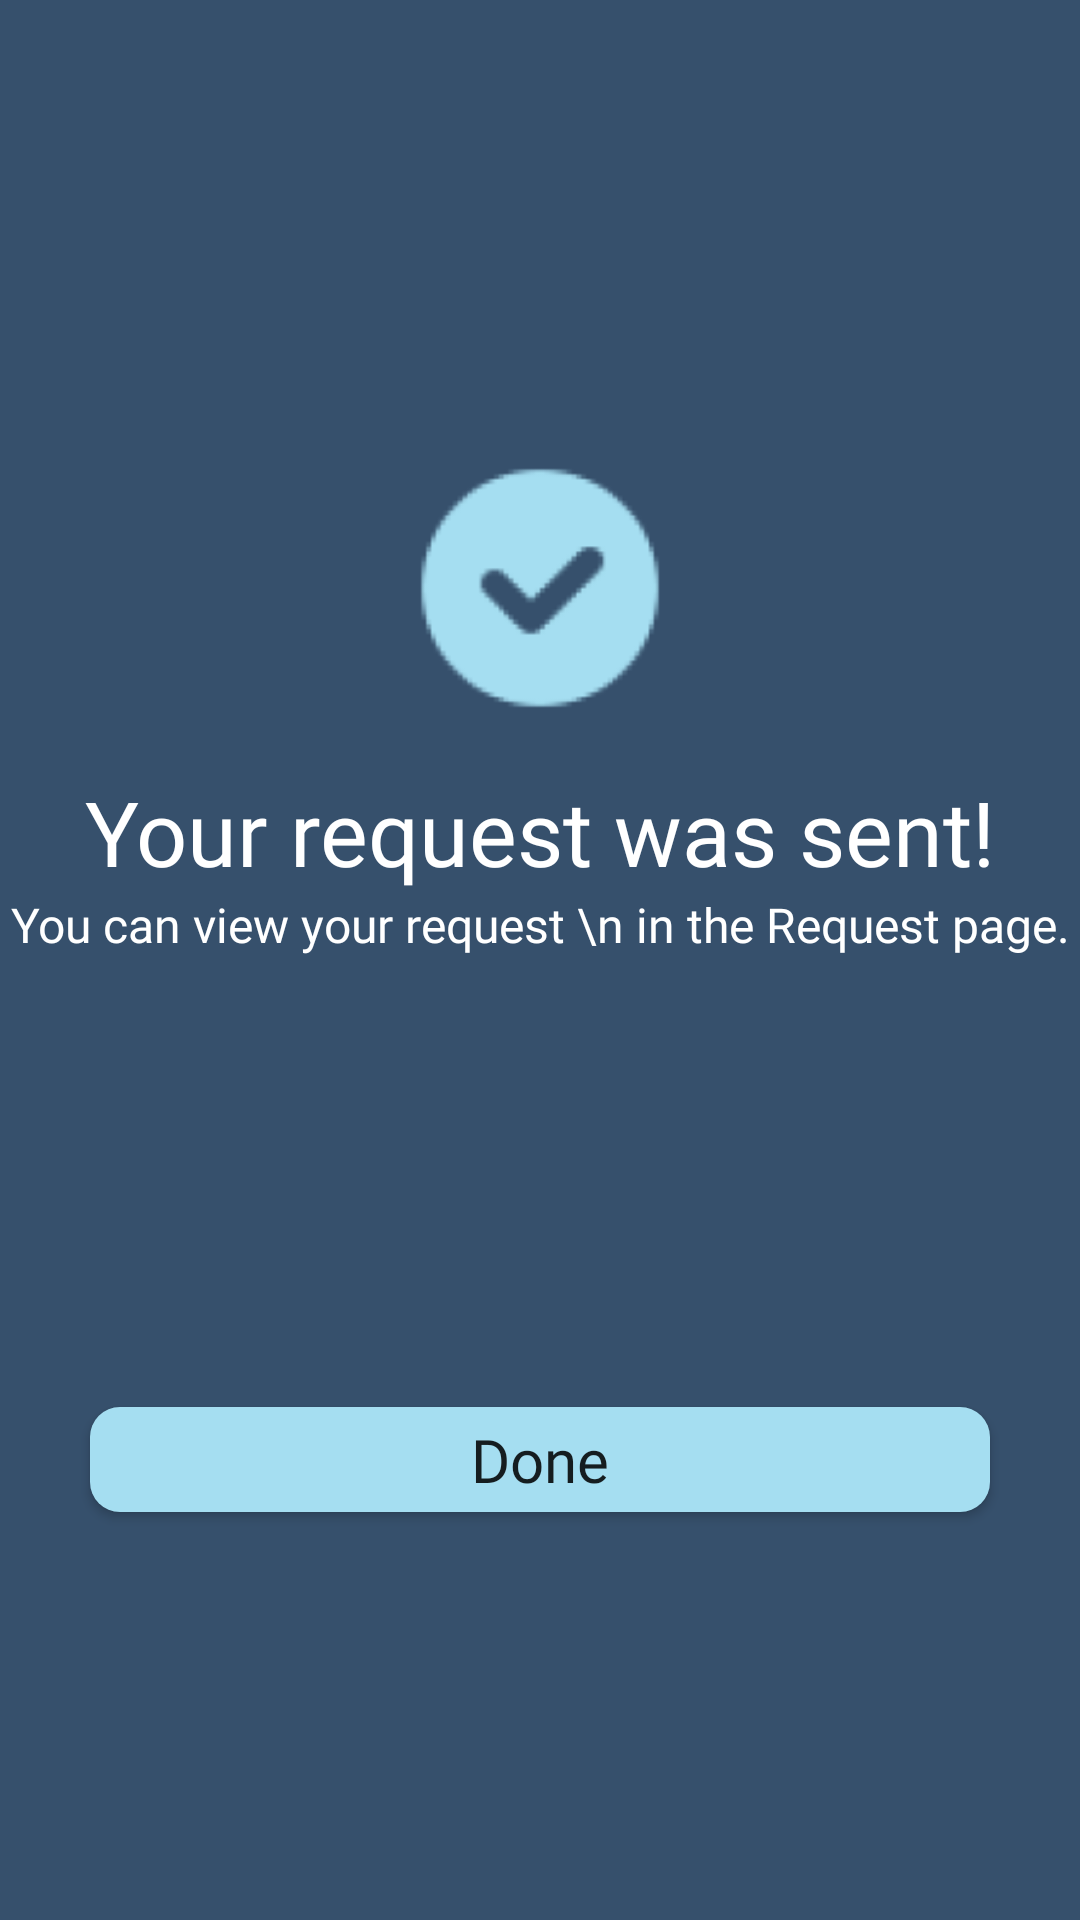

Screen size 1080x1920. Icon name, then its center in pixels as point (x, y):
check: point (540, 588)
